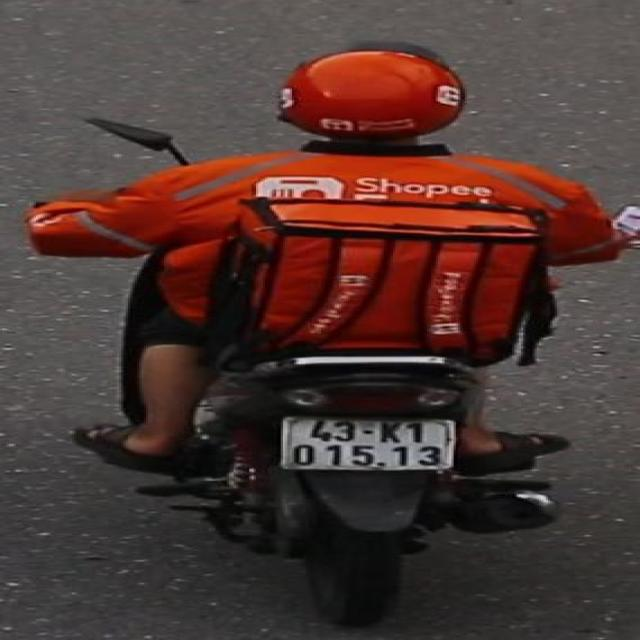LP: (267, 407, 474, 479)
helmet: (250, 32, 504, 172)
